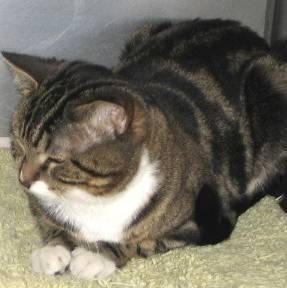cat: (2, 18, 286, 277)
